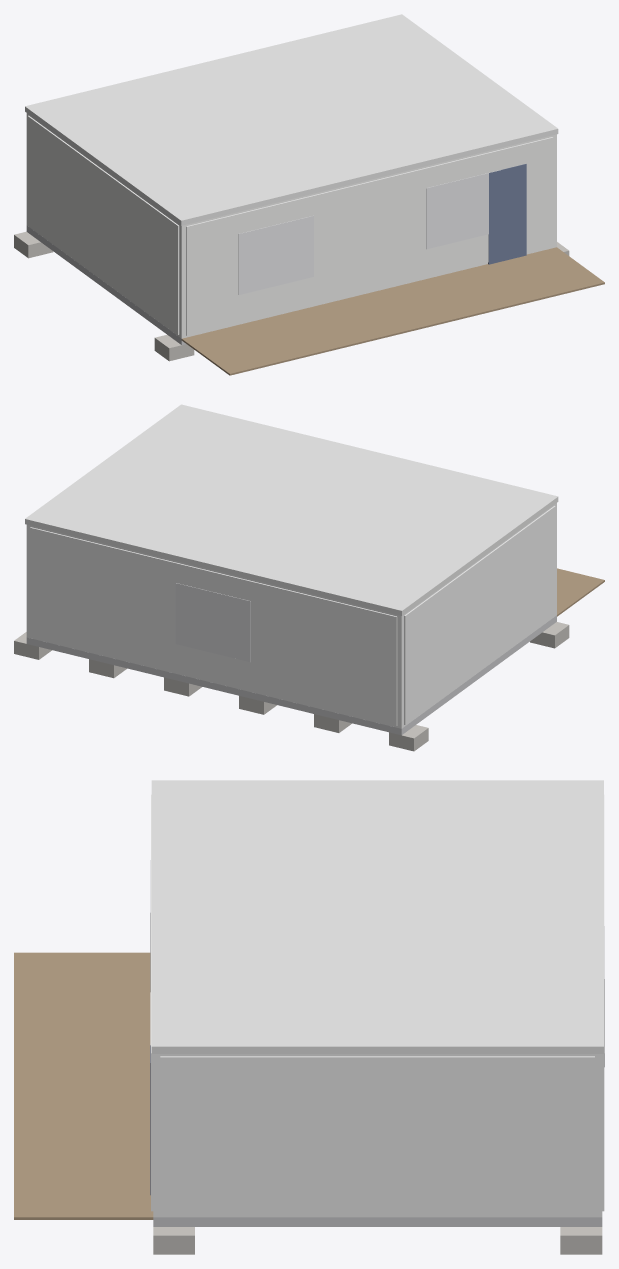
The model's file is Studio-30-Premium+TerraceDeck-LOD2.glb.
3 renders of one model, top to bottom at view 1: azimuth 30°, elevation 25°; view 2: azimuth 150°, elevation 25°; view 3: azimuth 270°, elevation 25°, orthographic. The views are drawn at different scales.
Parts seen in each view (by area): view 1: RoofMain, ExteriorPanelsPremium, TerraceDeck, WindowsLargeUpgrade, EntryDoor, ExteriorShell, FoundationBlocks, BaseFrame; view 2: RoofMain, ExteriorPanelsPremium, WindowsLargeUpgrade, BaseFrame, FoundationBlocks, ExteriorShell, TerraceDeck; view 3: RoofMain, ExteriorPanelsPremium, TerraceDeck, ExteriorShell, BaseFrame, FoundationBlocks.
Part boxes in pixels (left/top/right/bottom): RoofMain: left=25, top=14, right=558, bottom=225; ExteriorPanelsPremium: left=27, top=115, right=553, bottom=335; TerraceDeck: left=181, top=247, right=604, bottom=375; WindowsLargeUpgrade: left=238, top=170, right=500, bottom=294; EntryDoor: left=488, top=164, right=526, bottom=264; ExteriorShell: left=26, top=113, right=556, bottom=338; FoundationBlocks: left=14, top=231, right=569, bottom=361; BaseFrame: left=26, top=225, right=185, bottom=344; RoofMain: left=25, top=404, right=558, bottom=615; ExteriorPanelsPremium: left=30, top=506, right=555, bottom=725; WindowsLargeUpgrade: left=175, top=583, right=250, bottom=662; BaseFrame: left=26, top=615, right=556, bottom=735; FoundationBlocks: left=14, top=622, right=569, bottom=751; ExteriorShell: left=26, top=503, right=556, bottom=728; TerraceDeck: left=557, top=568, right=604, bottom=616; RoofMain: left=151, top=780, right=603, bottom=1053; ExteriorPanelsPremium: left=151, top=794, right=604, bottom=1215; TerraceDeck: left=14, top=952, right=153, bottom=1219; ExteriorShell: left=153, top=1054, right=602, bottom=1217; BaseFrame: left=153, top=1217, right=602, bottom=1226; FoundationBlocks: left=153, top=1227, right=602, bottom=1254.
Bounding box in the file's own units: 9.6 × 3.17 × 8.49.
